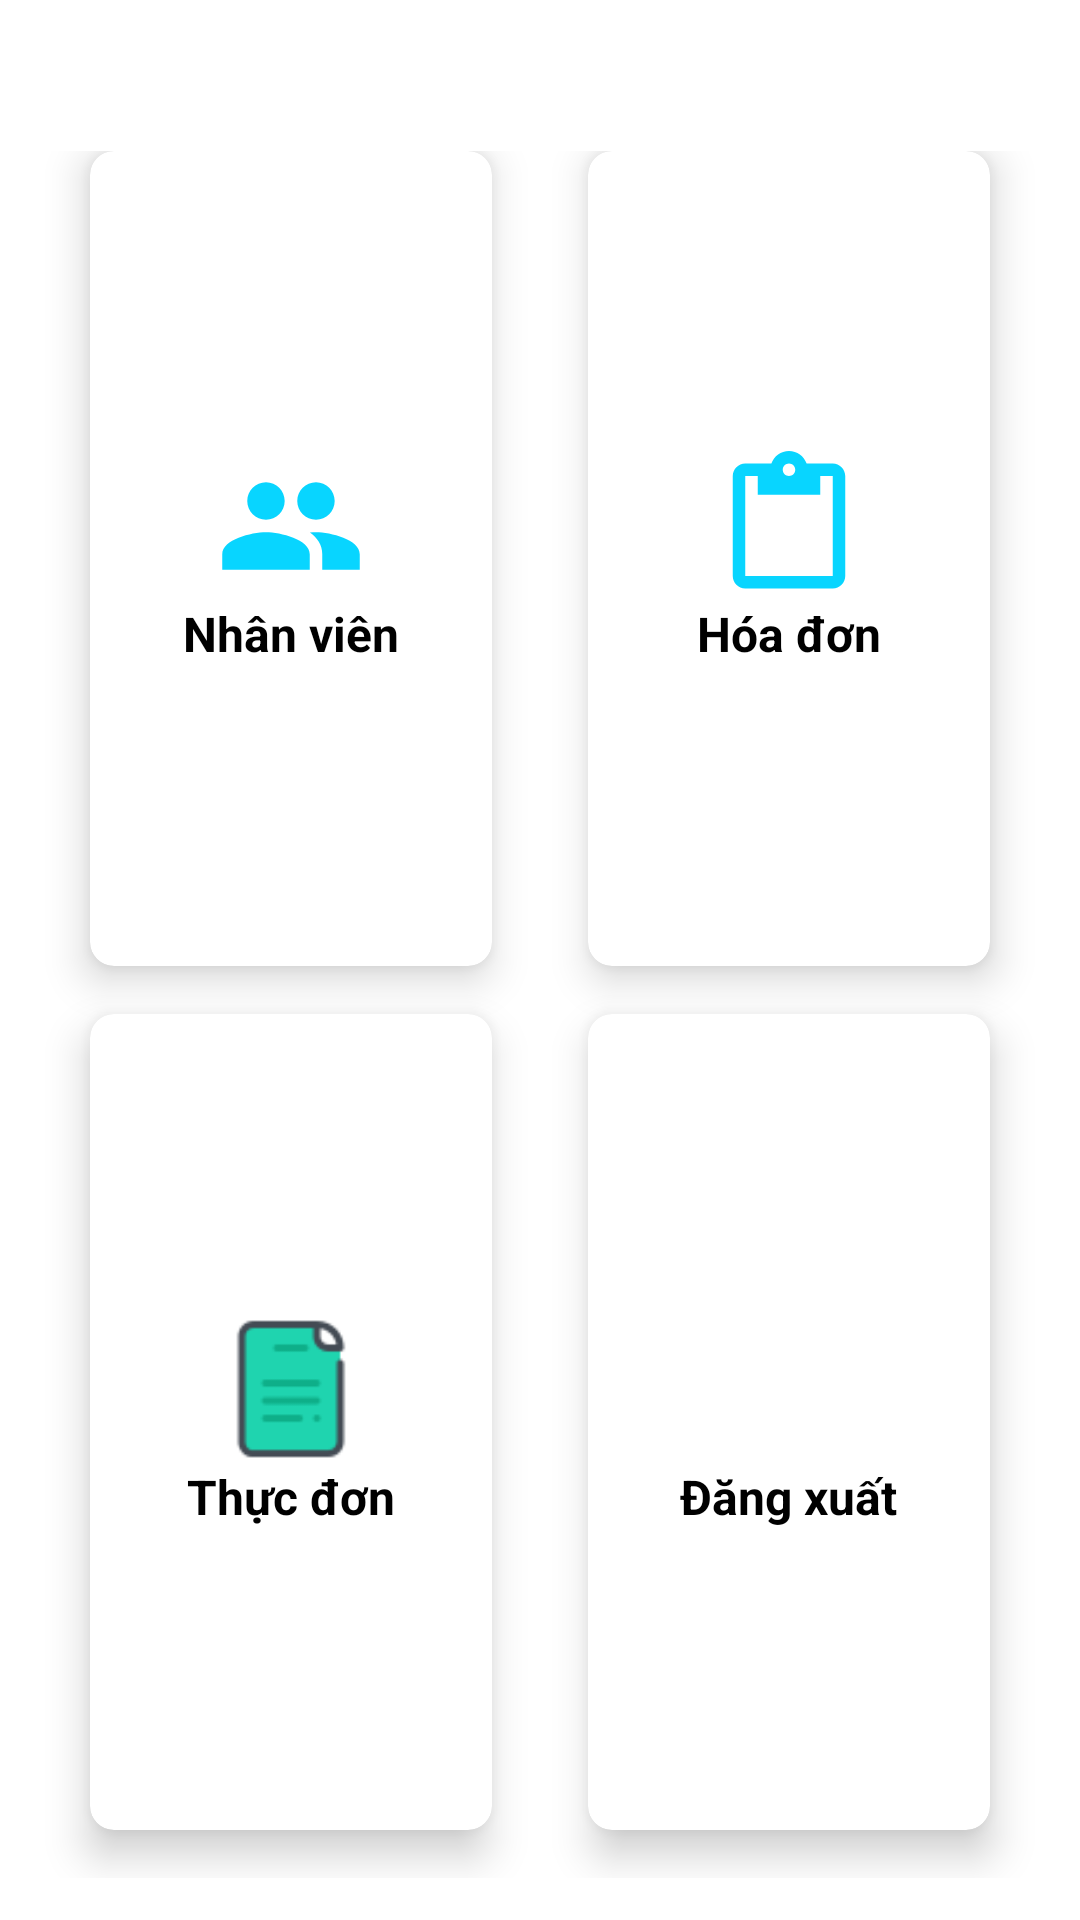

Screen size 1080*1920. Icon name, then its center in pixels as (x,y):
content paste: (789,520)
people: (291,526)
